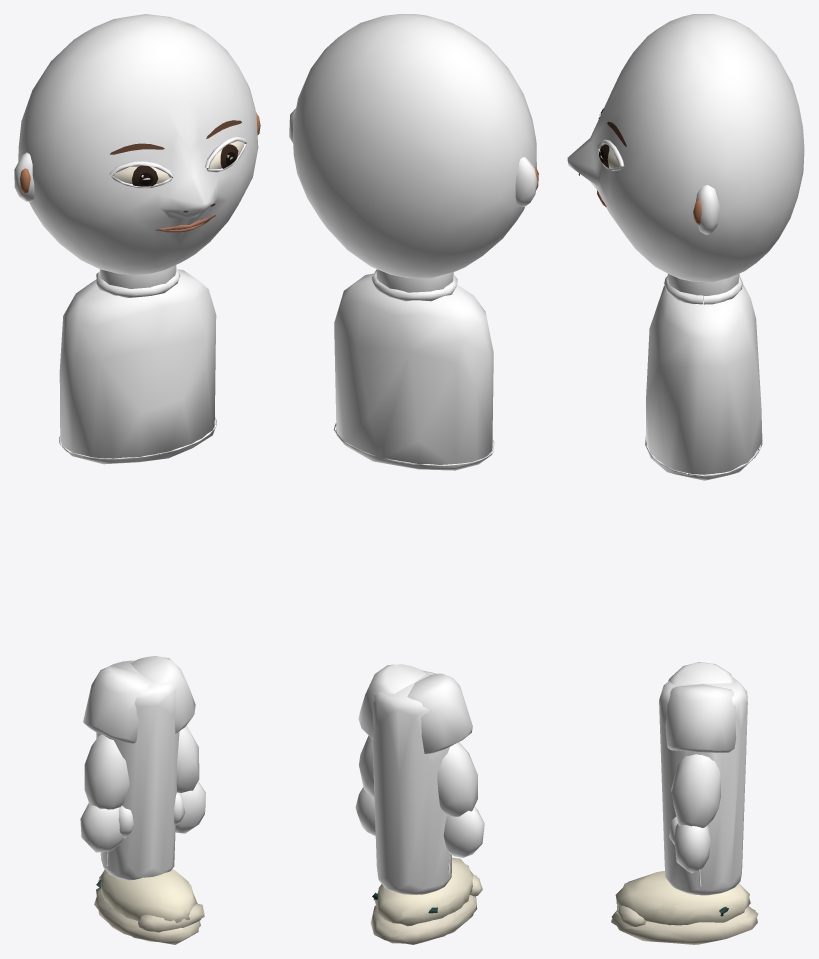
File: base-female.glb
3 renders of one model, left to right at view 1: azimuth 30°, elevation 25°; view 2: azimuth 150°, elevation 25°; view 3: azimuth 270°, elevation 25°, orthographic.
Visible parts, largest first — view 1: head__skin, body__shirt, leftLeg__trousers, leftForearm__skin, rightLeg__trousers, leftUpperArm__shirt, rightLeg__fixed, leftLeg__fixed, head__fixed, rightForearm__skin, rightUpperArm__shirt; view 2: head__skin, body__shirt, leftLeg__trousers, leftForearm__skin, leftUpperArm__shirt, rightLeg__fixed, rightLeg__trousers, leftLeg__fixed, rightUpperArm__shirt, rightForearm__skin; view 3: head__skin, body__shirt, leftLeg__trousers, rightLeg__trousers, rightForearm__skin, rightUpperArm__shirt, leftLeg__fixed, rightLeg__fixed, leftUpperArm__shirt, head__fixed.
Part boxes in pixels (x1,y1,x2,y2): head__skin: (14, 14, 258, 288); body__shirt: (59, 268, 216, 464); leftLeg__trousers: (99, 660, 179, 880); leftForearm__skin: (80, 734, 133, 852); rightLeg__trousers: (96, 665, 175, 879); leftUpperArm__shirt: (83, 666, 149, 743); rightLeg__fixed: (94, 872, 204, 942); leftLeg__fixed: (96, 869, 204, 944); head__fixed: (20, 113, 260, 232); rightForearm__skin: (174, 725, 205, 833); rightUpperArm__shirt: (130, 656, 195, 733); head__skin: (289, 14, 537, 292); body__shirt: (333, 270, 494, 470); leftLeg__trousers: (372, 670, 451, 894); leftForearm__skin: (437, 742, 484, 857); leftUpperArm__shirt: (407, 673, 472, 753); rightLeg__fixed: (370, 859, 480, 944); rightLeg__trousers: (372, 671, 451, 894); leftLeg__fixed: (371, 857, 482, 943); rightUpperArm__shirt: (358, 664, 426, 739); rightForearm__skin: (355, 735, 375, 836); head__skin: (567, 14, 804, 300); body__shirt: (645, 276, 762, 480); leftLeg__trousers: (659, 677, 747, 895); rightLeg__trousers: (659, 681, 747, 895); rightForearm__skin: (669, 754, 720, 873); rightUpperArm__shirt: (665, 684, 736, 752); leftLeg__fixed: (611, 872, 758, 944); rightLeg__fixed: (611, 871, 757, 944); leftUpperArm__shirt: (668, 662, 732, 684); head__fixed: (578, 91, 701, 225).
Bounding box in the file's own units: 0.8503 × 3.02 × 0.7125.
